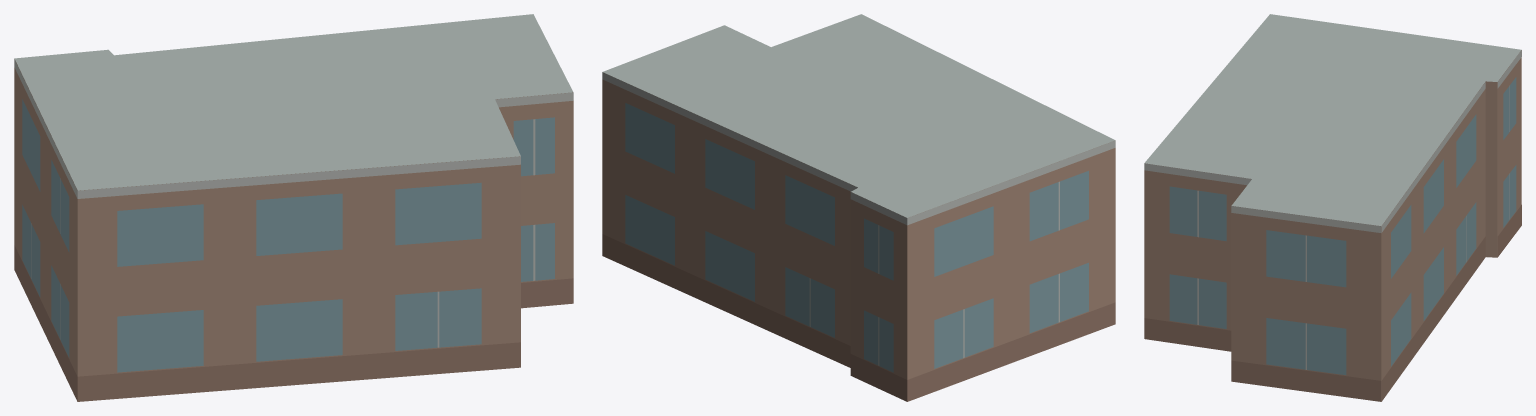
The model's file is survey-upis-32884050.glb.
3 views of the same model, side by side, from view 1: azimuth 30°, elevation 25°; view 2: azimuth 150°, elevation 25°; view 3: azimuth 270°, elevation 25° (orthographic). The views are drawn at different scales.
Visible parts, largest first — view 1: survey-upis-32884050.tmp; view 2: survey-upis-32884050.tmp; view 3: survey-upis-32884050.tmp.
Part boxes in pixels (box(x1,y1,x2,y2)): survey-upis-32884050.tmp: box(14, 14, 573, 401); survey-upis-32884050.tmp: box(602, 14, 1115, 401); survey-upis-32884050.tmp: box(1144, 14, 1521, 401).
Size of the model in its own units: 15.81 by 6.1 by 11.89.
